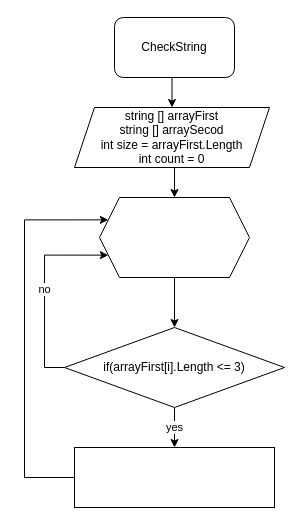
The diagram is 302 pixels wide and 525 high, and some of its shapes have lost their labels. Here are the shapes that lost their labels. From the top down, the centre of each, then its label:
[174,237]: for (int i = 0; i < size; i++)
[174,477]: arraySecond[count] = arrayFirst[i]; count++;
